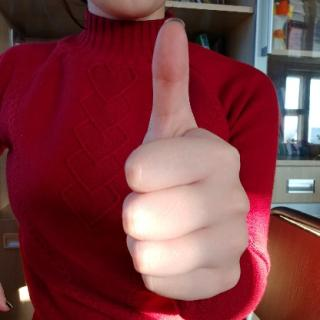ALIF: (120, 13, 254, 313)
